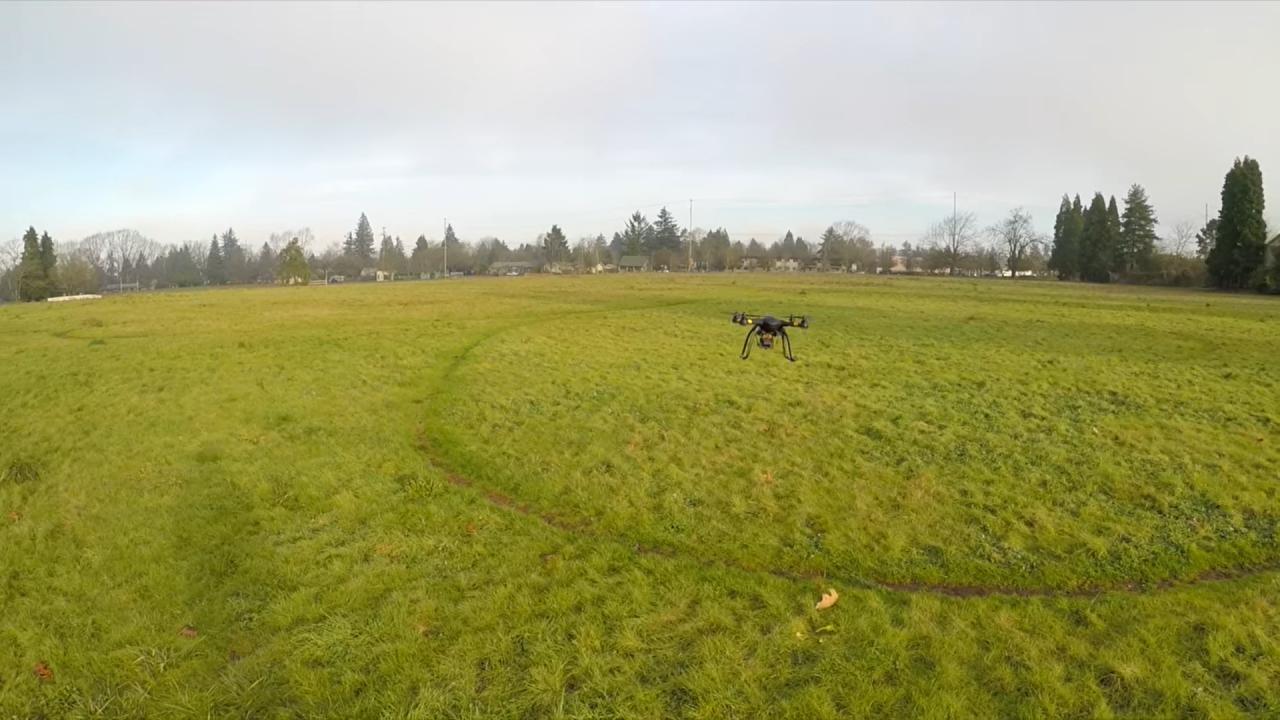Drone: (721, 302, 818, 370)
